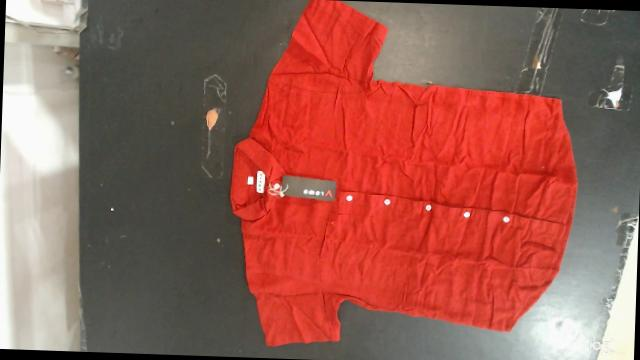new-garment: (231, 0, 577, 345)
